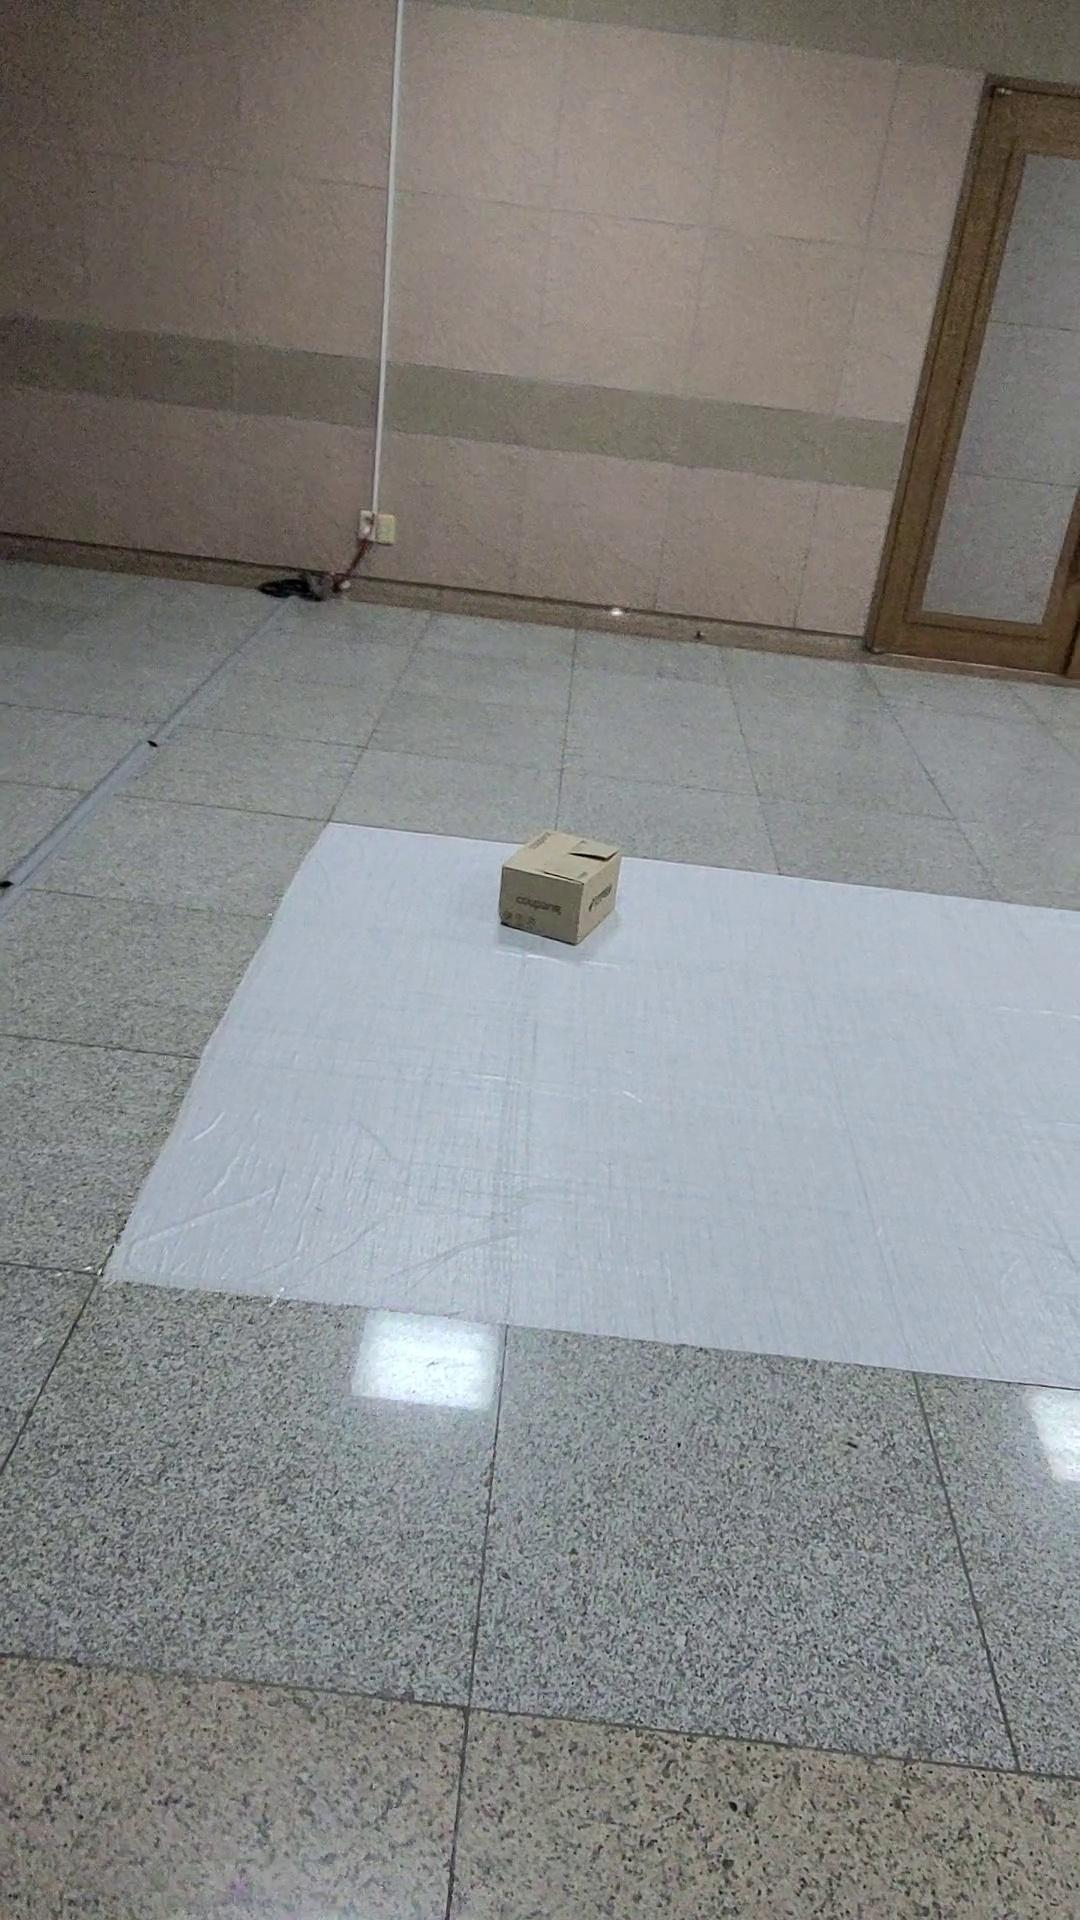Box: (481, 800, 673, 1000)
